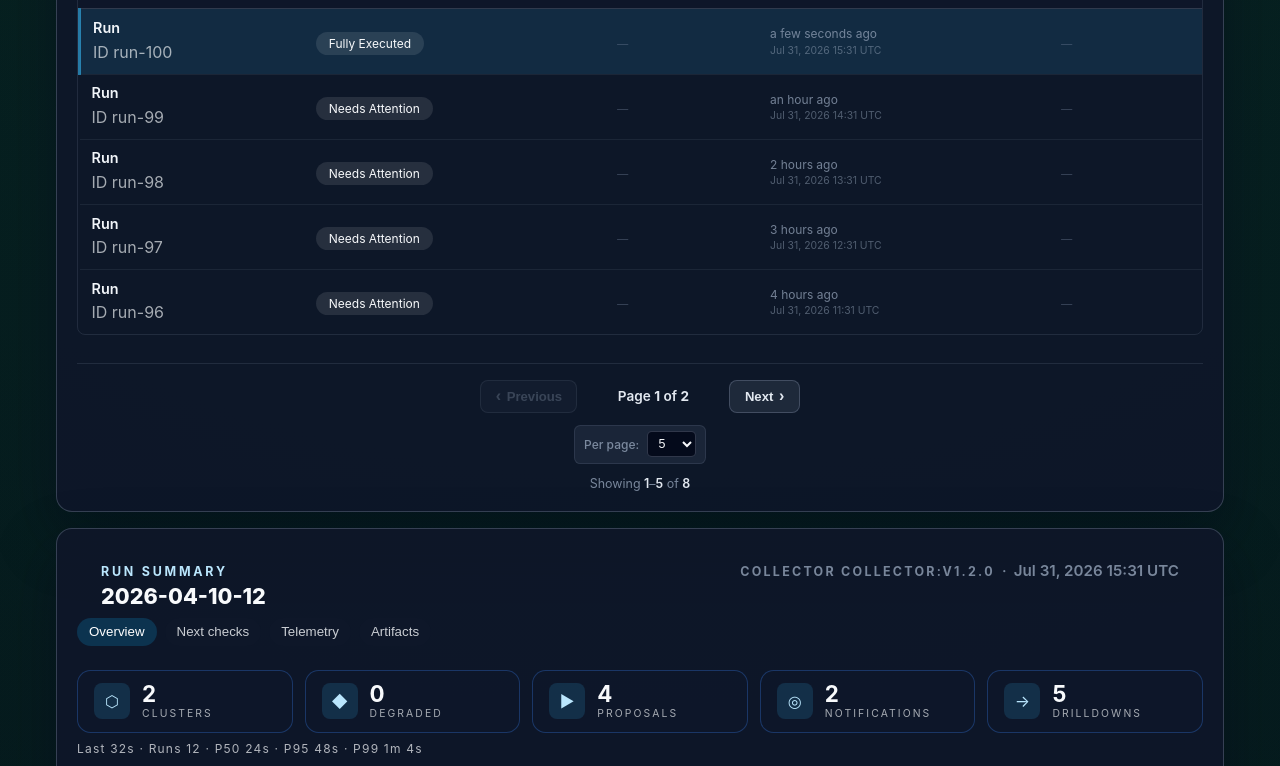
Test: Detached notice visibility › clicking 'Show selected run' hides notice and navigates to selected run
(page scrolled)
Expected: the 1st button with class "run-row" is shown, [80, 9, 1202, 74]
Expected: the element showing "Page 1 of 2" is shown, [618, 388, 689, 404]
Note: Manually navigate to page 2 (detached mode)
Click the button with aria-label "runs next page" at point(765, 396), box [730, 380, 800, 413]
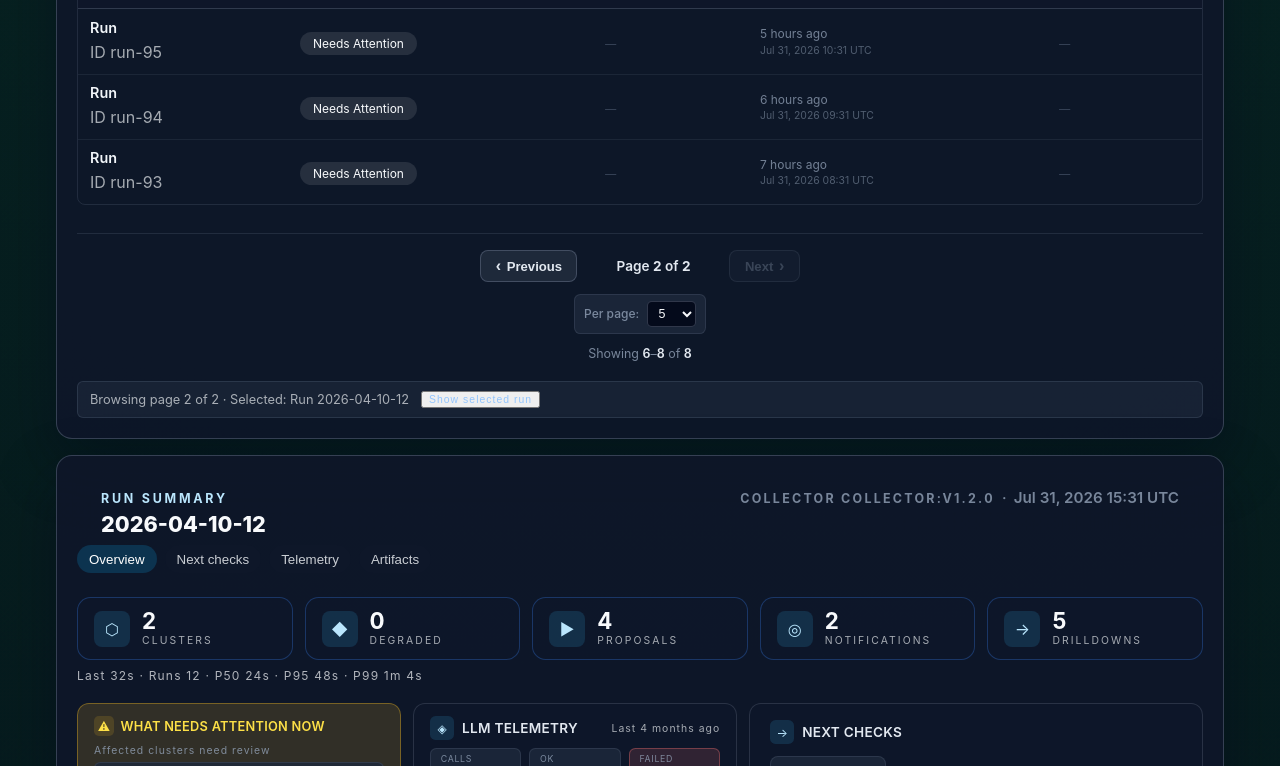
Expected: the text "Browsing page 2 of 2 · Selected: Run 2026-04-10-12" is shown, [90, 392, 409, 407]
Expected: the text "Browsing page 2" is shown, [77, 380, 1203, 418]
Expected: the button "Show selected run" is shown
Note: Click "Show selected run"
Click the button "Show selected run" at point(481, 399), box [421, 391, 540, 408]
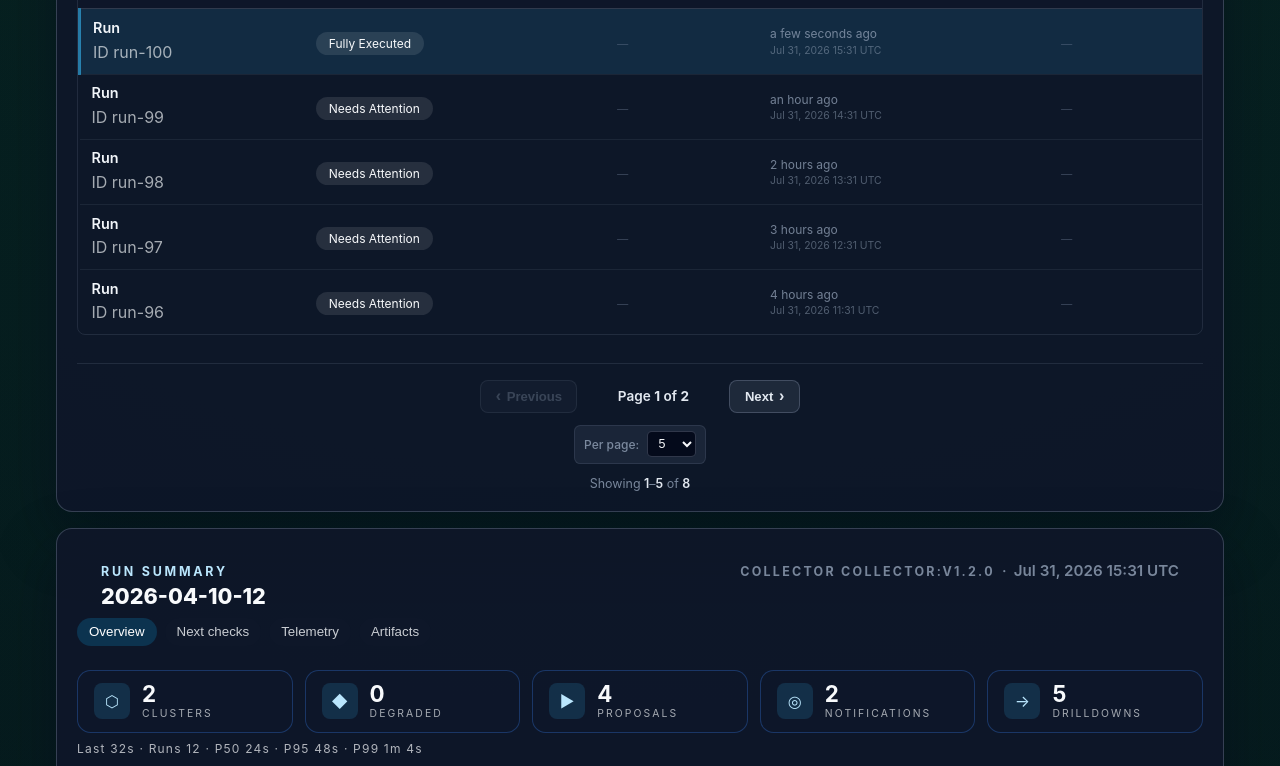
Expected: the element with class "runs-detached-notice" is gone
Expected: the element showing "Page 1 of 2" is shown, [618, 388, 689, 404]
Expected: the button with class "run-row-selected" is shown, [80, 9, 1202, 74]
